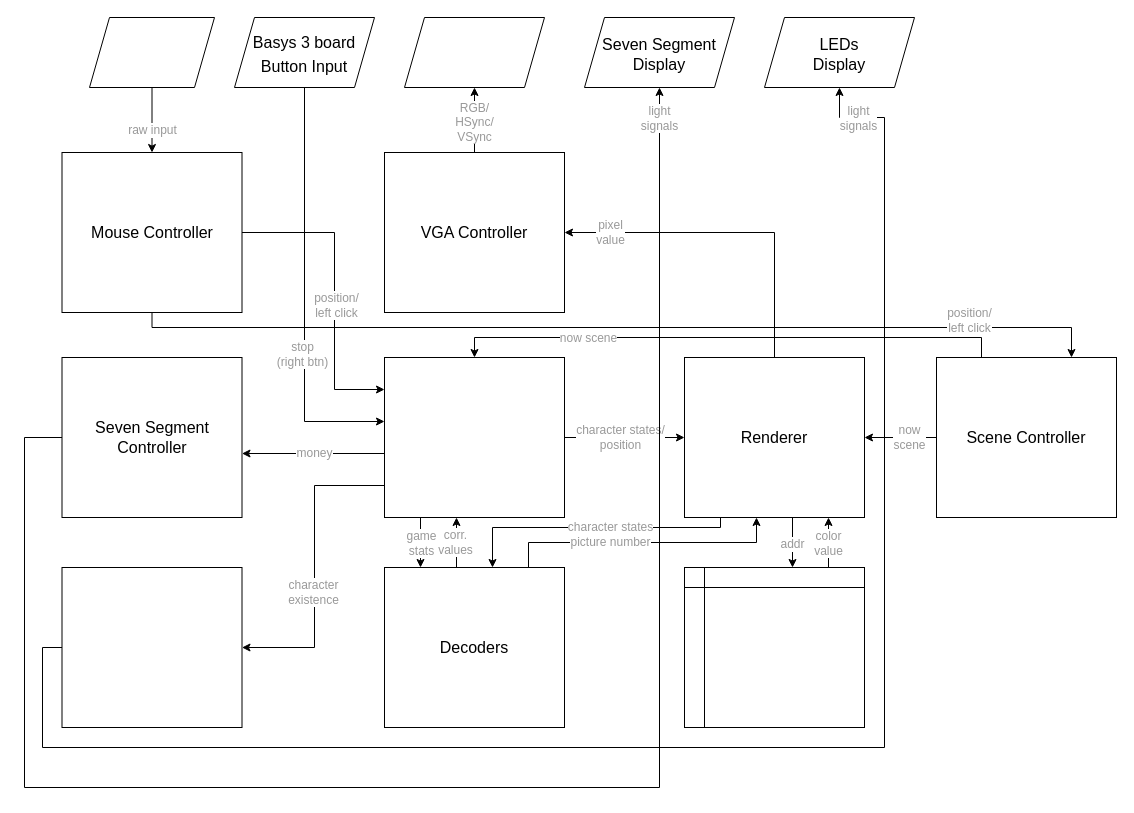
Image size: 1134x813. Some labels were removed from this diagram. Here are the shapes that lost their labels. From the top down, the centre of each, then its label:
the point at 151,52: PS/2 Mouse Input
the point at 474,52: VGA display
the point at 474,437: Game Engine
the point at 151,647: LED Controller
the point at 774,647: Pictures/Fonts
